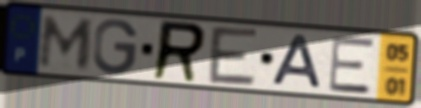A: (270, 33, 325, 91)
E: (206, 24, 261, 89), (327, 35, 375, 96)
G: (91, 17, 141, 77)
M: (35, 13, 97, 72)
R: (149, 18, 210, 85)
